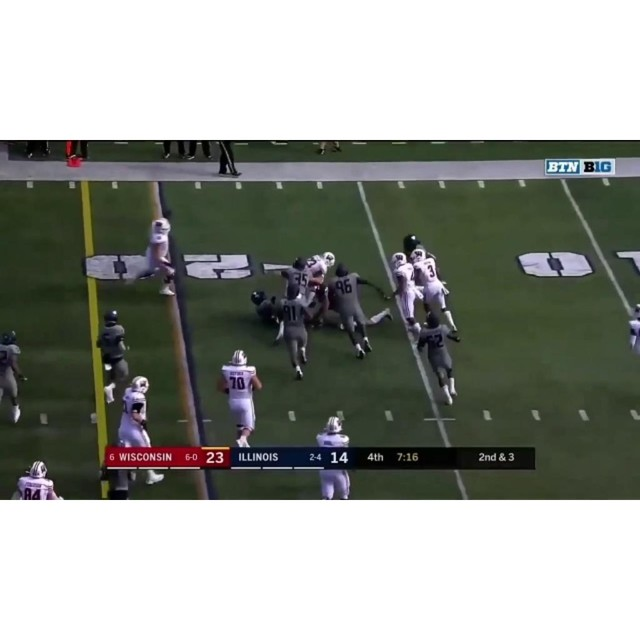american-football-player: (331, 263, 388, 359), (409, 313, 462, 405), (217, 350, 263, 448), (410, 248, 460, 335), (276, 287, 314, 381), (94, 311, 132, 403), (314, 414, 354, 500), (134, 217, 177, 296), (383, 251, 421, 336), (0, 331, 28, 424), (117, 376, 151, 447), (9, 460, 64, 500), (280, 255, 311, 301)
